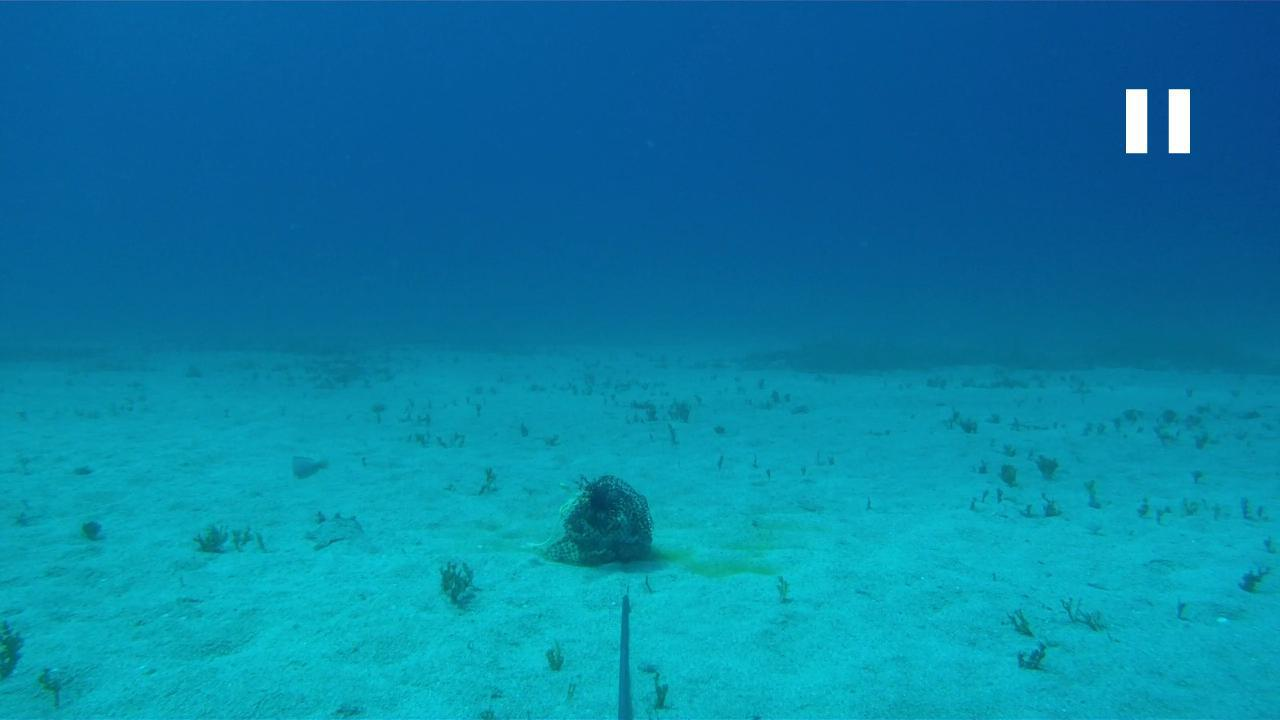bothus: (302, 508, 367, 554)
